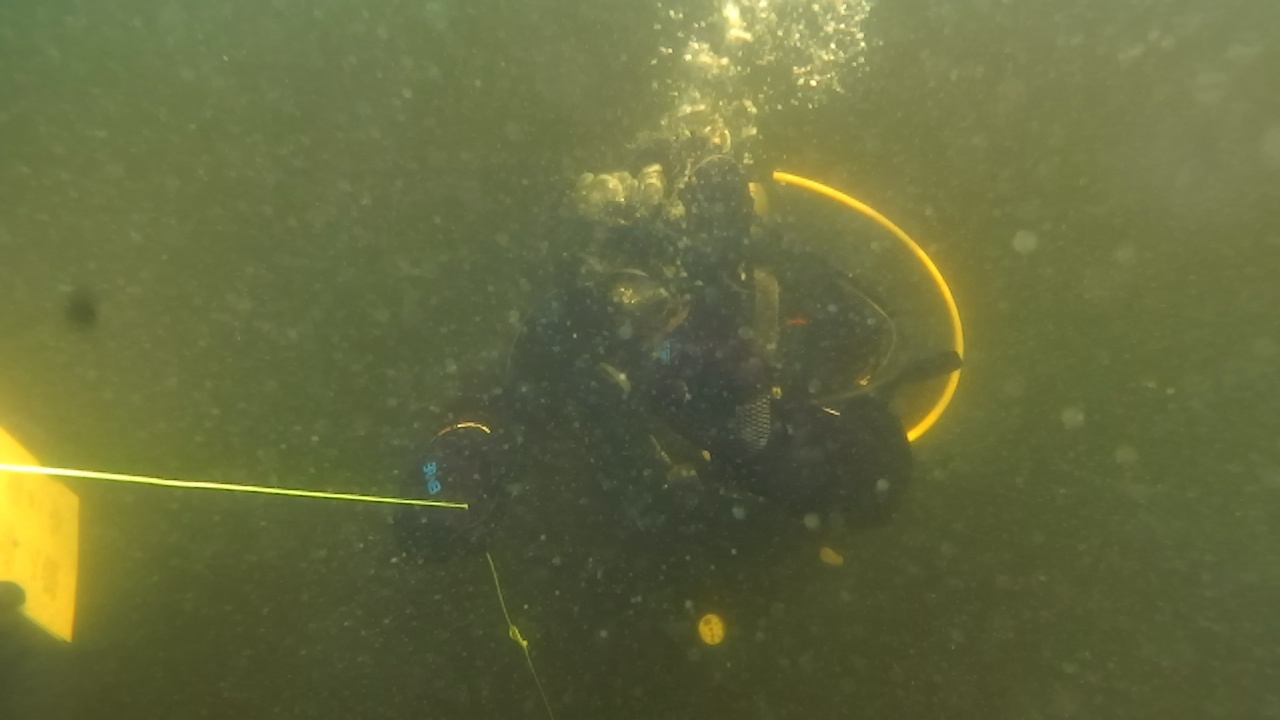Hand: (390, 422, 520, 554)
Head: (534, 130, 744, 380)
